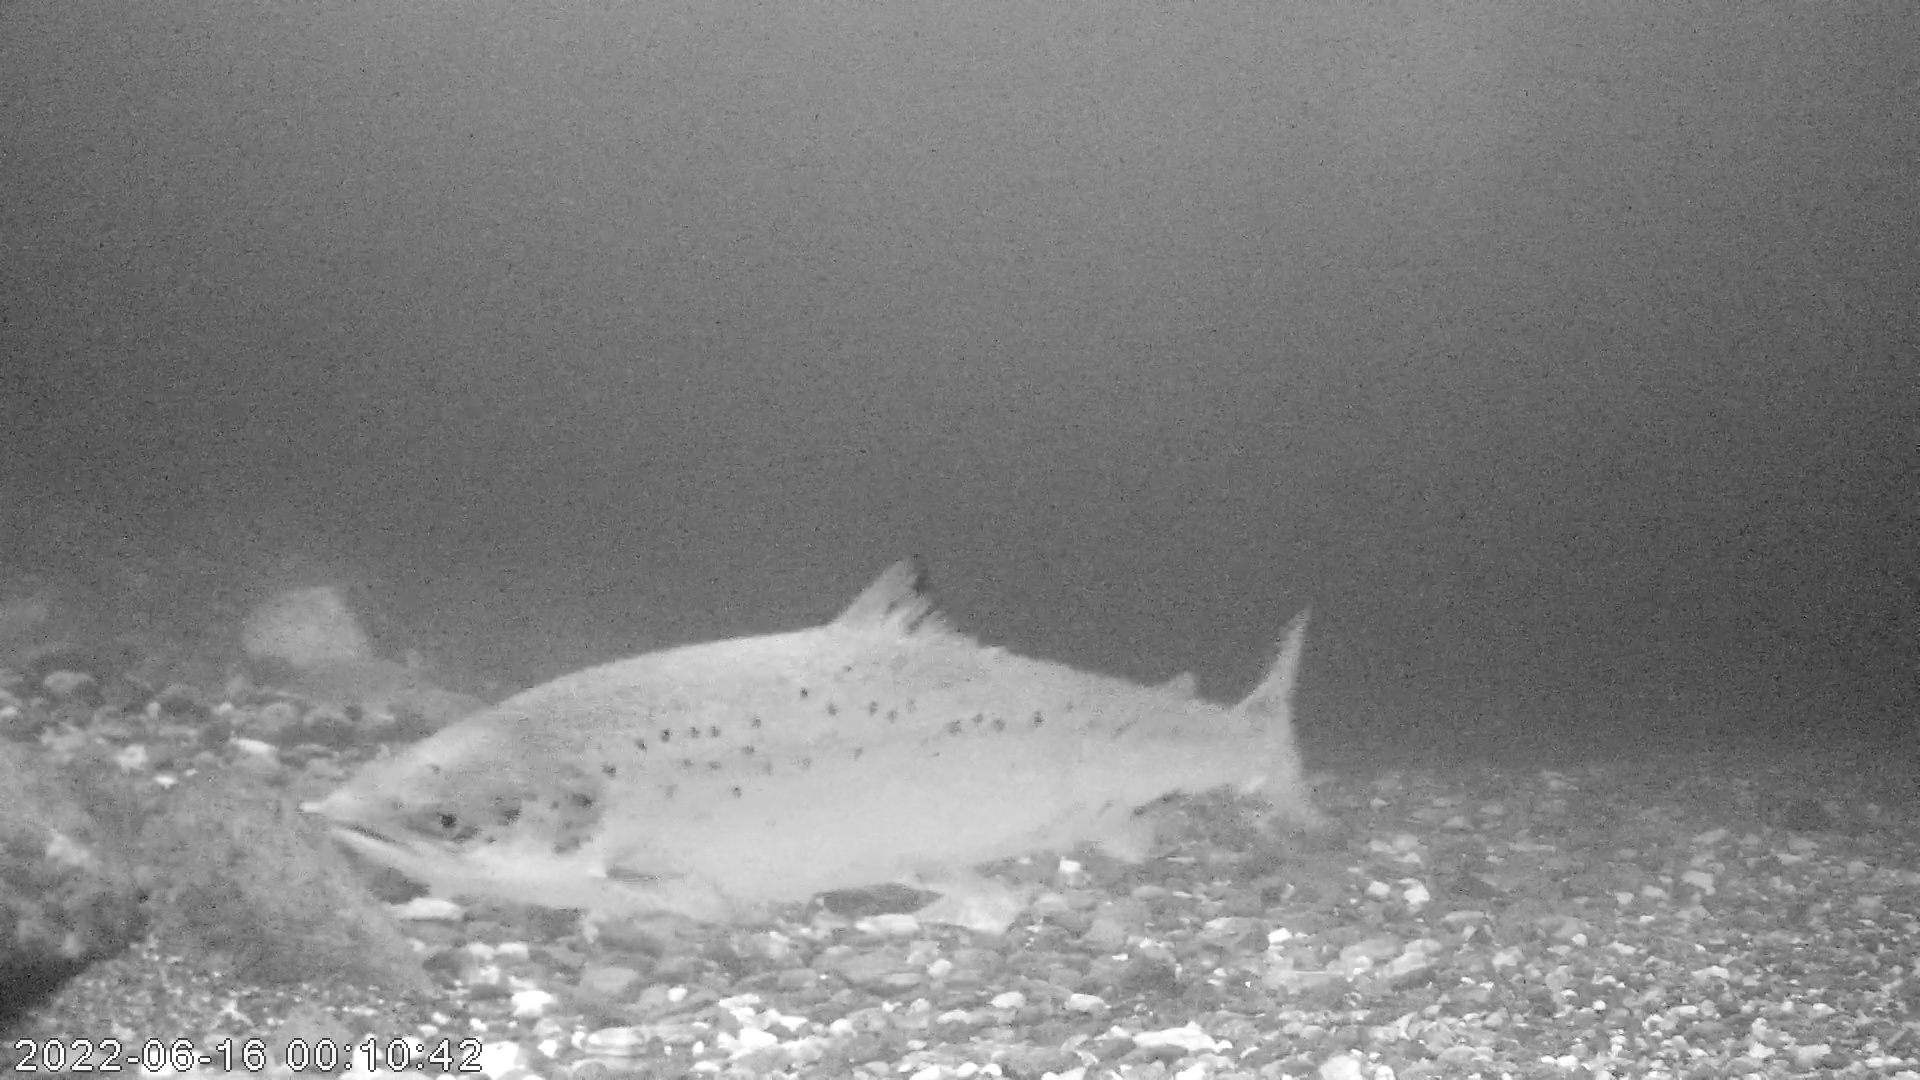salmon: (315, 550, 1323, 926)
